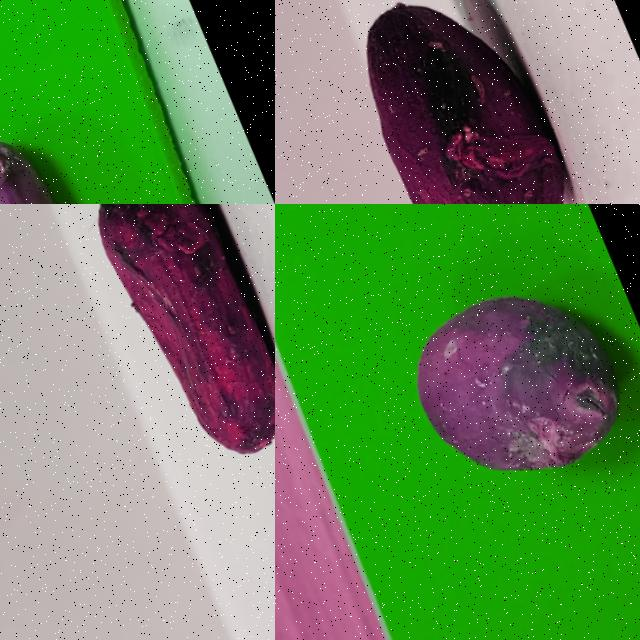Fine_cocoabeans: (320, 204, 639, 597), (8, 204, 274, 517), (306, 0, 639, 203), (0, 18, 206, 203)
